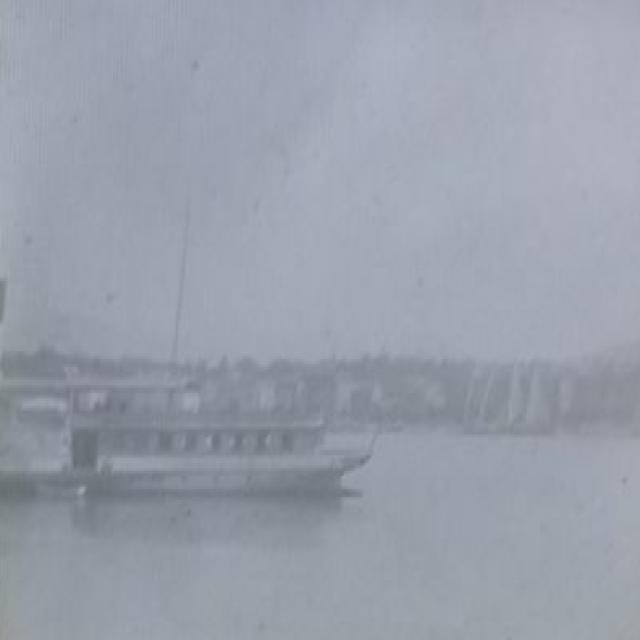houseboat: (48, 359, 381, 503)
